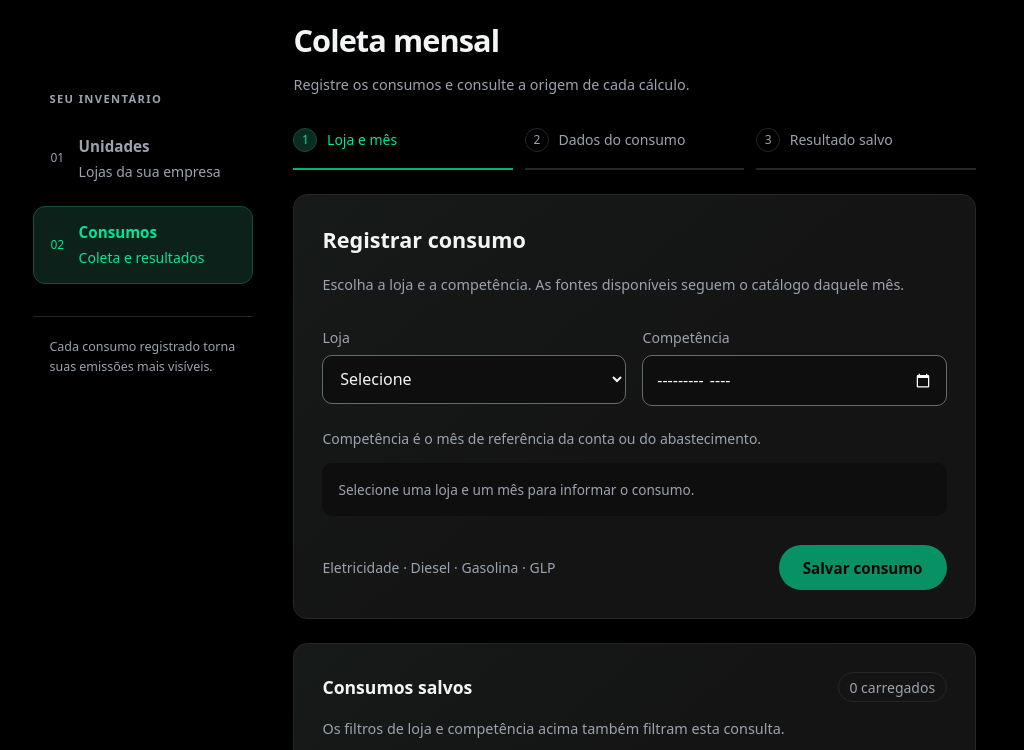
Test: salva decimal pela API, consulta fator versionado e reproduz cálculo original
Select "Loja Centro" in the dropdown labelled "Loja": (474, 380) [322, 355, 626, 404]
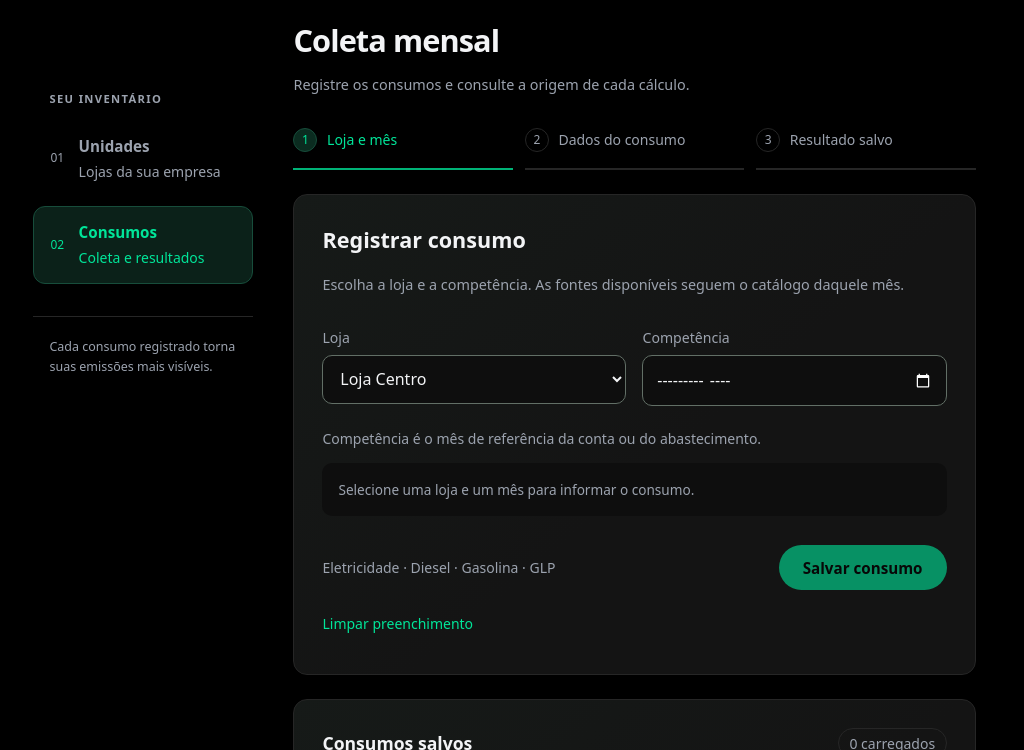
In the field labelled "Competência": (794, 381) [642, 355, 946, 406], type "2025-10"
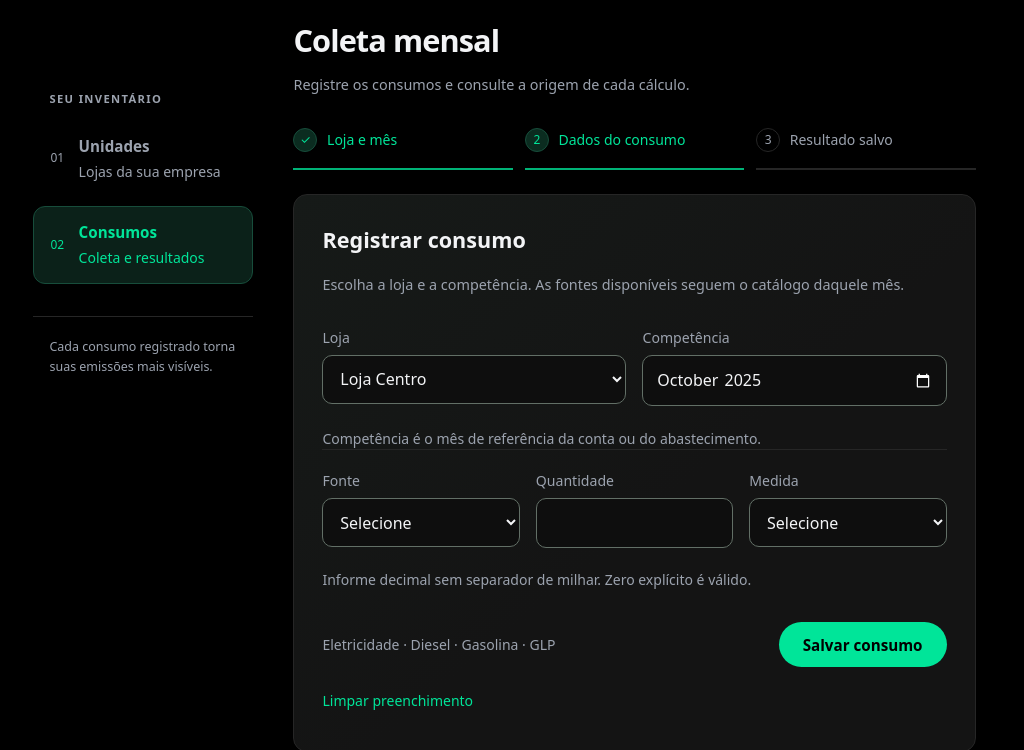
Select "Eletricidade" in the dropdown labelled "Fonte": (421, 522) [322, 498, 520, 547]
In the field labelled "Quantidade": (634, 523) [536, 498, 733, 548], type "1,5"
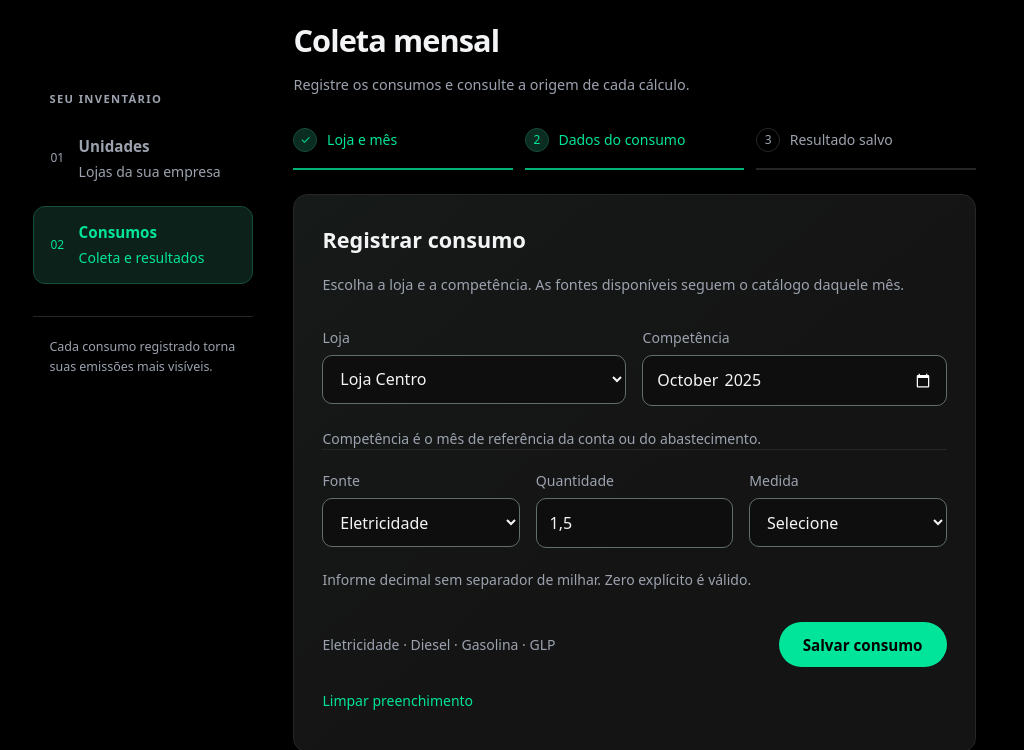
Select "MWh" in the dropdown labelled "Medida": (848, 522) [749, 498, 947, 547]
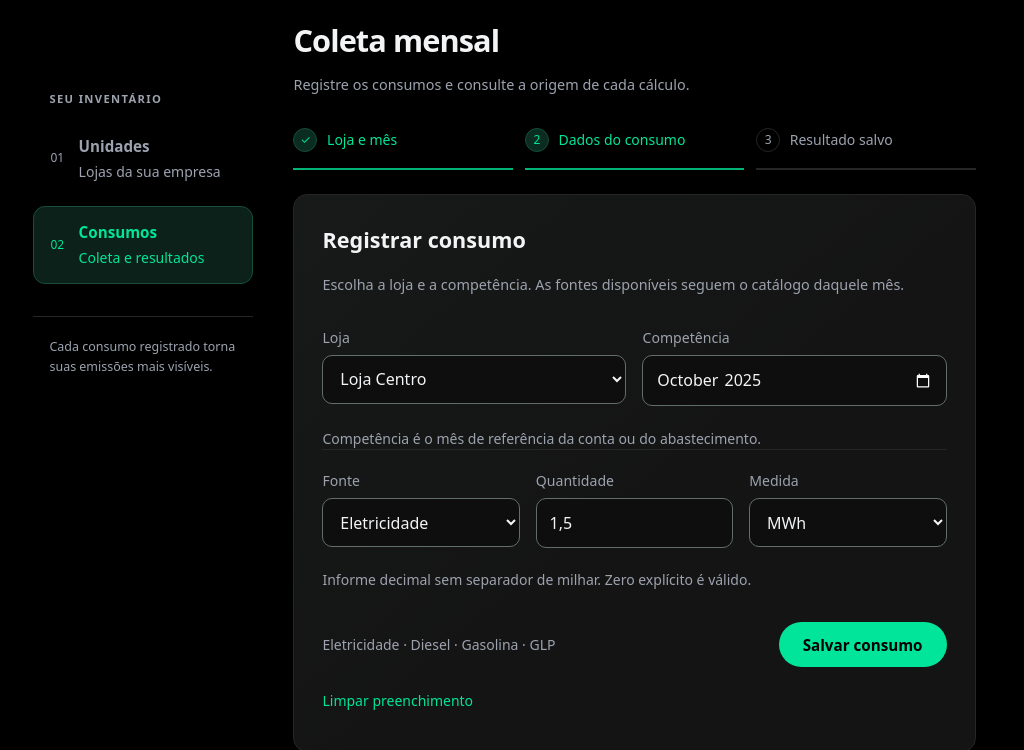
Click the button "Salvar consumo": (863, 645) [779, 622, 947, 667]
(page scrolled)
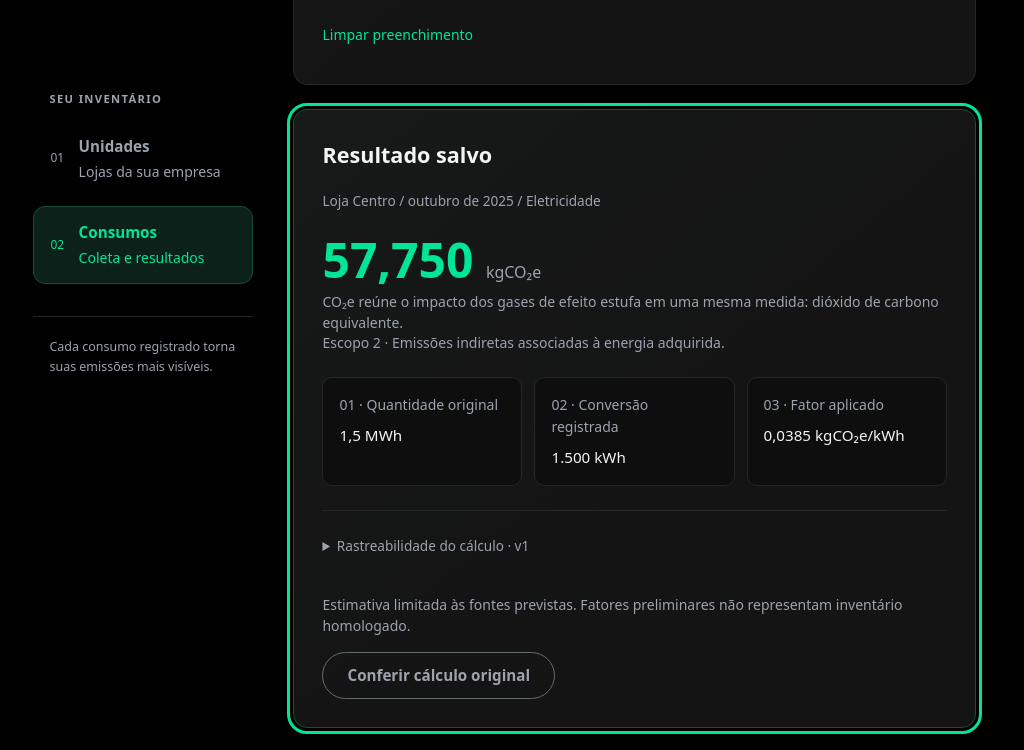
Expected: the element "Resultado salvo" shows "57,750 kgCO₂e", [294, 109, 976, 728]
Click the button "Conferir cálculo original": (439, 675) [322, 652, 555, 699]
(page scrolled)
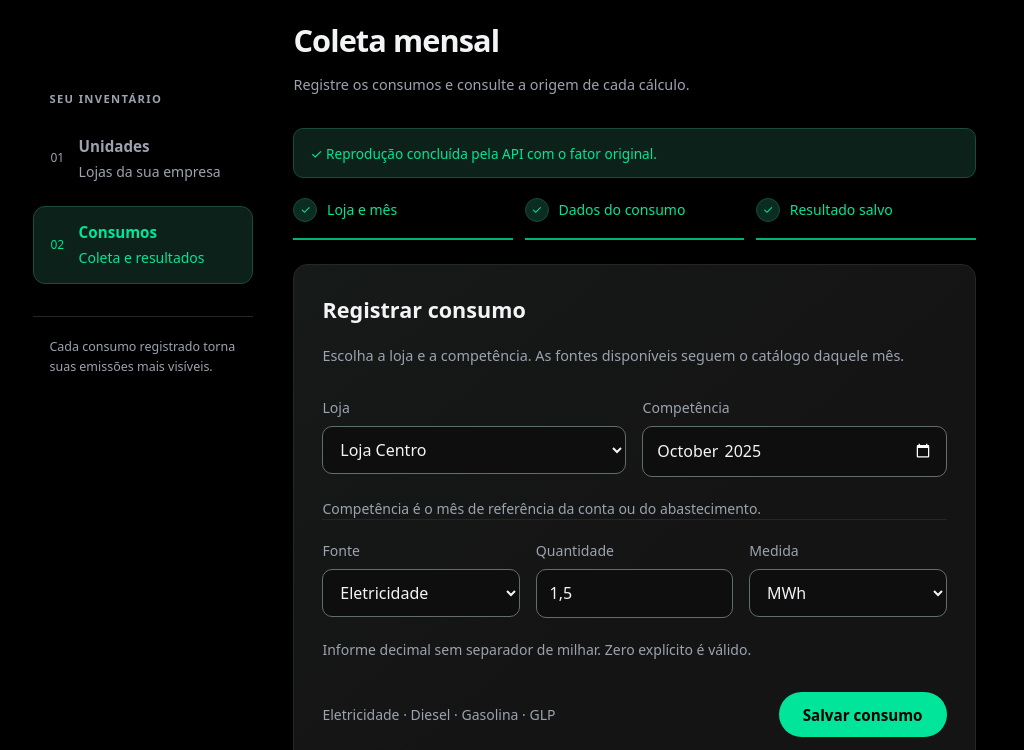
Expected: the text "✓ Reprodução concluída pela API com o fator original." is shown, [294, 128, 976, 178]
